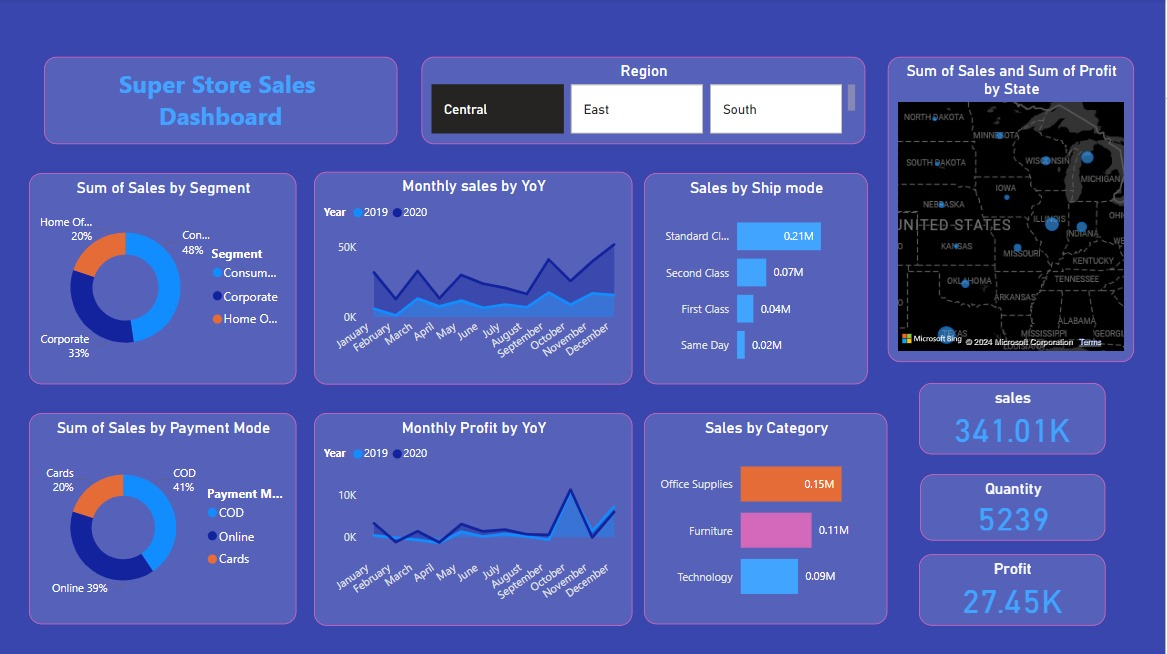

Layout of this report page (visuals, bound fields, positions):
{"tool":"powerbi","page":{"name":"Page 1","canvas":[1280,720],"ordinal":0},"visuals":[{"type":"clusteredBarChart","title":" Sales by Category","fields":{"Category":["Sheet1.Category"],"Y":["Sum(Sheet1.Sales)"]},"box":[708.1,455.6,267.6,231.9],"z":0},{"type":"clusteredBarChart","title":" Sales by Ship mode","fields":{"Category":["Sheet1.Ship Mode"],"Y":["Sum(Sheet1.Sales)"]},"box":[708.1,192.1,245.6,231.9],"z":1000},{"type":"stackedAreaChart","title":"Monthly sales by YoY","fields":{"Y":["Sum(Sheet1.Sales)"],"Category":["Sheet1.Order Date.Variation.Date Hierarchy.Month","Sheet1.Order Date.Variation.Date Hierarchy.Day"],"Series":["Sheet1.Order Date.Variation.Date Hierarchy.Year"]},"box":[345.8,190.7,349.9,233.3],"z":2000},{"type":"stackedAreaChart","title":"Monthly Profit by YoY","fields":{"Category":["Sheet1.Order Date.Variation.Date Hierarchy.Month","Sheet1.Order Date.Variation.Date Hierarchy.Day"],"Series":["Sheet1.Order Date.Variation.Date Hierarchy.Year"],"Y":["Sum(Sheet1.Profit)"]},"box":[345.8,455.6,349.9,233.3],"z":3000},{"type":"map","fields":{"Category":["Sheet1.State"],"Size":["Sum(Sheet1.Sales)"]},"box":[975.6,64.5,270.3,334.8],"z":4000},{"type":"donutChart","fields":{"Category":["Sheet1.Segment"],"Y":["Sum(Sheet1.Sales)"]},"box":[32.9,192.1,293.7,231.9],"z":5000},{"type":"donutChart","fields":{"Category":["Sheet1.Payment Mode"],"Y":["Sum(Sheet1.Sales)"]},"box":[32.9,455.6,293.7,231.9],"z":6000},{"type":"advancedSlicerVisual","fields":{"Values":["Sheet1.Region"]},"box":[463.8,64.5,487.1,96.1],"z":7000},{"type":"textbox","box":[49.4,64.5,388.3,96.1],"z":8000},{"type":"card","title":"sales","fields":{"Values":["Sum(Sheet1.Sales)"]},"box":[1010,422.6,204.5,78.2],"z":9000},{"type":"card","title":"Quantity","fields":{"Values":["Sum(Sheet1.Quantity)"]},"box":[1011.3,522.8,203.1,72.7],"z":9001},{"type":"card","title":"Profit","fields":{"Values":["Sum(Sheet1.Profit)"]},"box":[1010,610.6,204.5,78.2],"z":9002}]}

Visuals, with their boxes in screenshot pixels (x1, y1, x2, y2), scaled from the page's 1280x720 canvas onto the 1167x654 screenshot:
" Sales by Category" clusteredBarChart: detection(646, 414, 890, 624)
" Sales by Ship mode" clusteredBarChart: detection(646, 174, 870, 385)
"Monthly sales by YoY" stackedAreaChart: detection(315, 173, 634, 385)
"Monthly Profit by YoY" stackedAreaChart: detection(315, 414, 634, 626)
map - Sheet1.State x Sum(Sheet1.Sales): detection(889, 59, 1136, 363)
donutChart - Sheet1.Segment x Sum(Sheet1.Sales): detection(30, 174, 298, 385)
donutChart - Sheet1.Payment Mode x Sum(Sheet1.Sales): detection(30, 414, 298, 624)
advancedSlicerVisual - Sheet1.Region: detection(423, 59, 867, 146)
textbox: detection(45, 59, 399, 146)
"sales" card: detection(921, 384, 1107, 455)
"Quantity" card: detection(922, 475, 1107, 541)
"Profit" card: detection(921, 555, 1107, 626)
